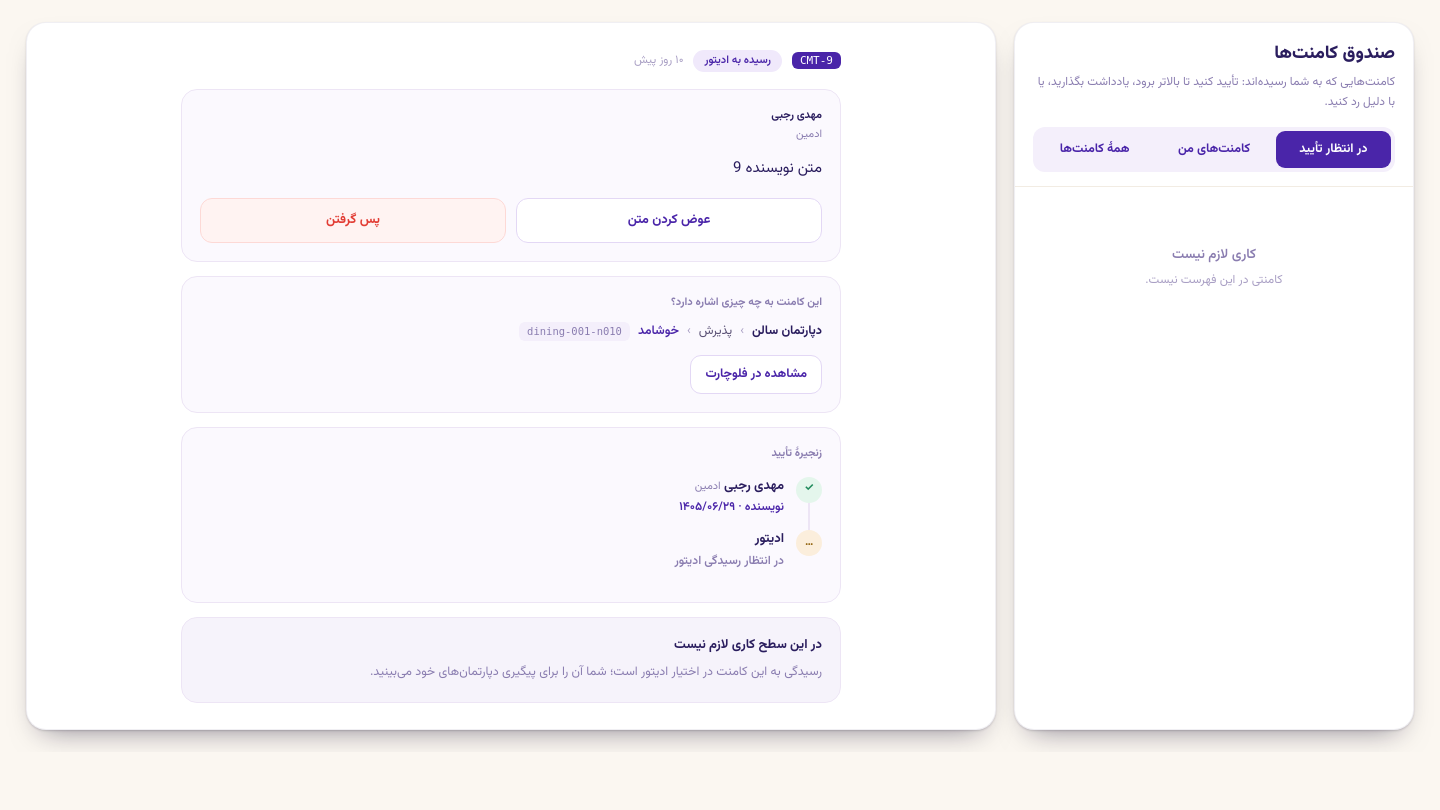
it: panel inbox › gives an Admin author «عوض کردن متن»: the text becomes a box, «دوباره بفرست» PUTs it
Click the button "عوض کردن متن" at (669, 220), box top-left (516, 198), bottom-right (822, 243)
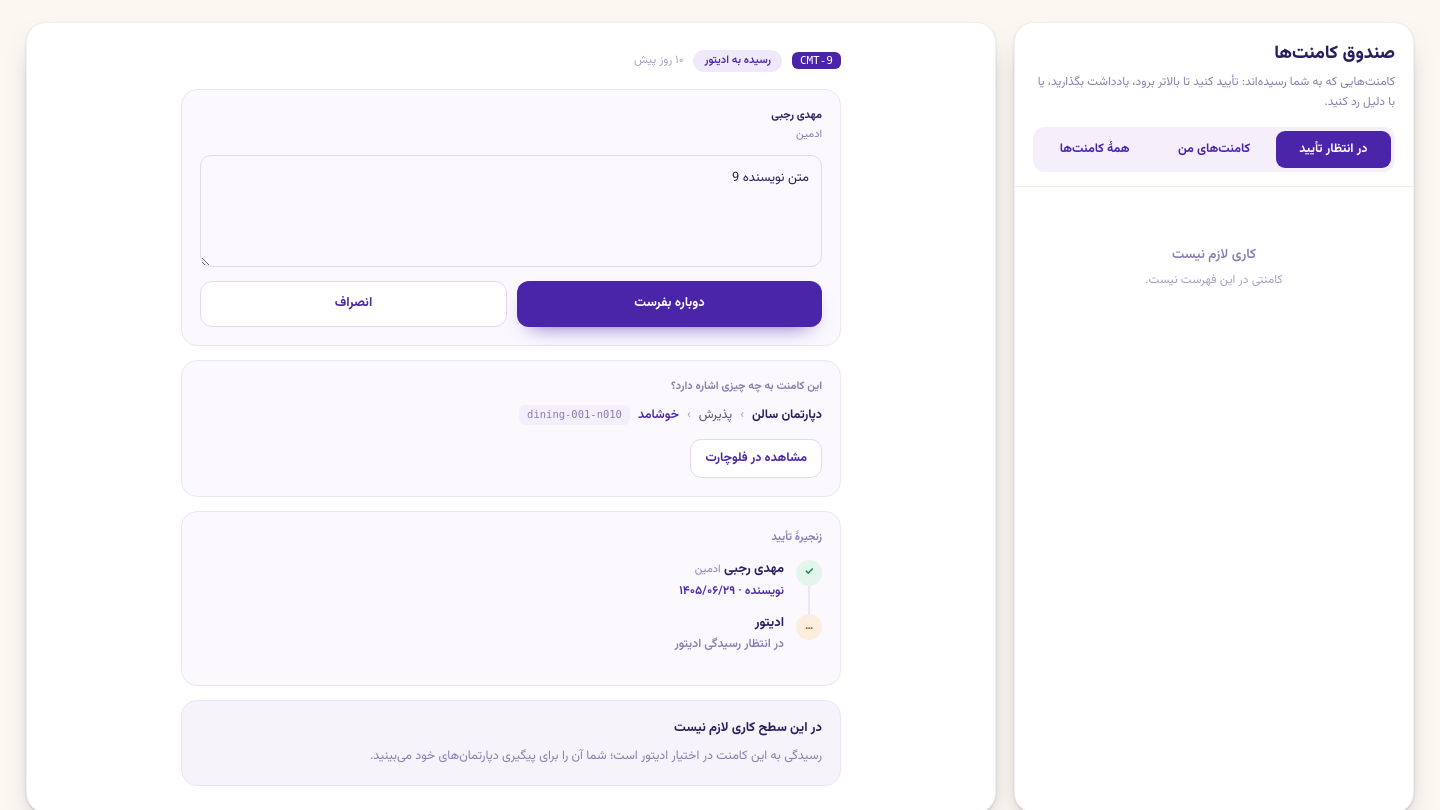
Now the text box with placeholder "حرفتان را ساده بنویسید…" holds "متن نویسنده 9"
Replace the text in the text box with placeholder "حرفتان را ساده بنویسید…" with "متن تازه" at (511, 211), box top-left (200, 155), bottom-right (822, 267)
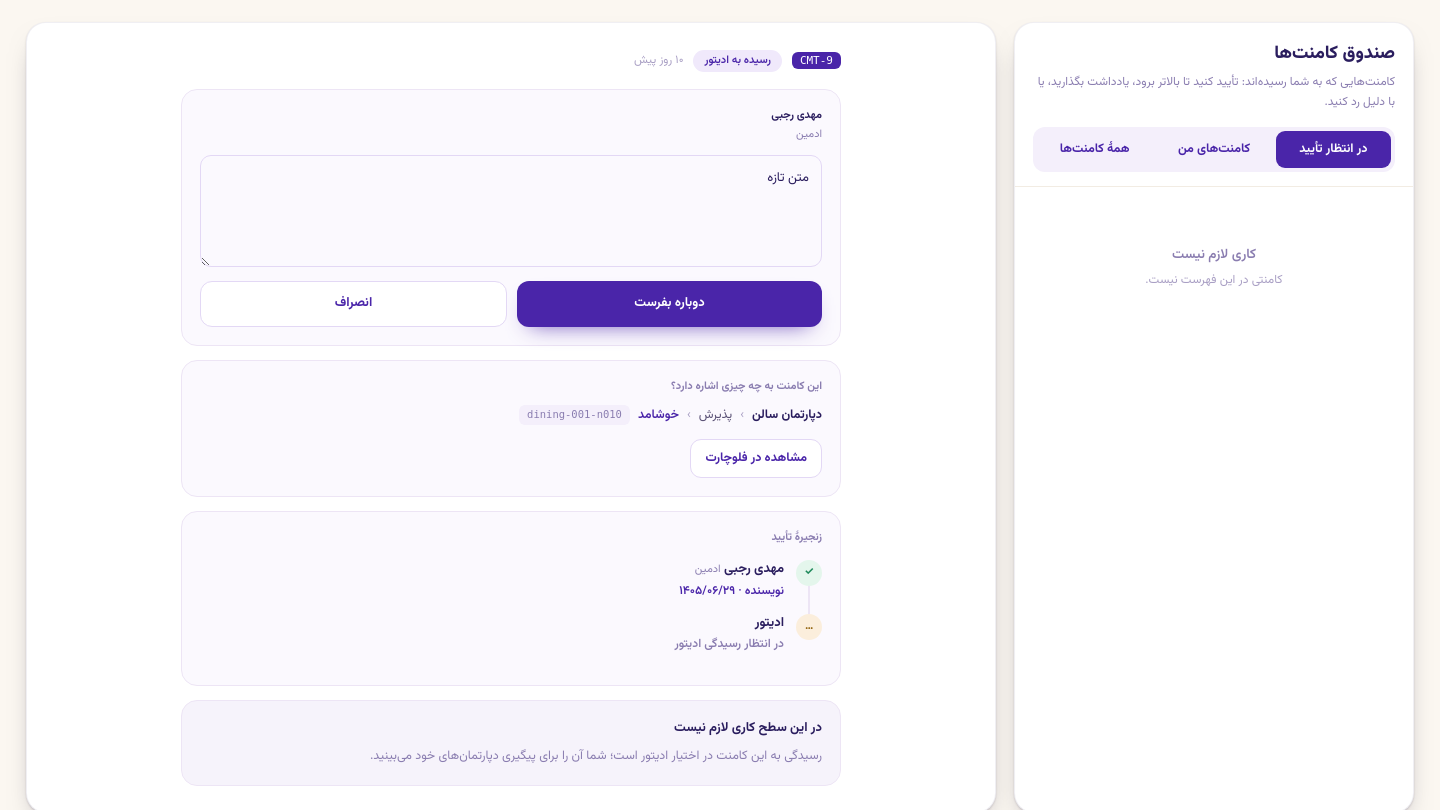
Click the button "دوباره بفرست" at (670, 304), box top-left (517, 281), bottom-right (822, 327)
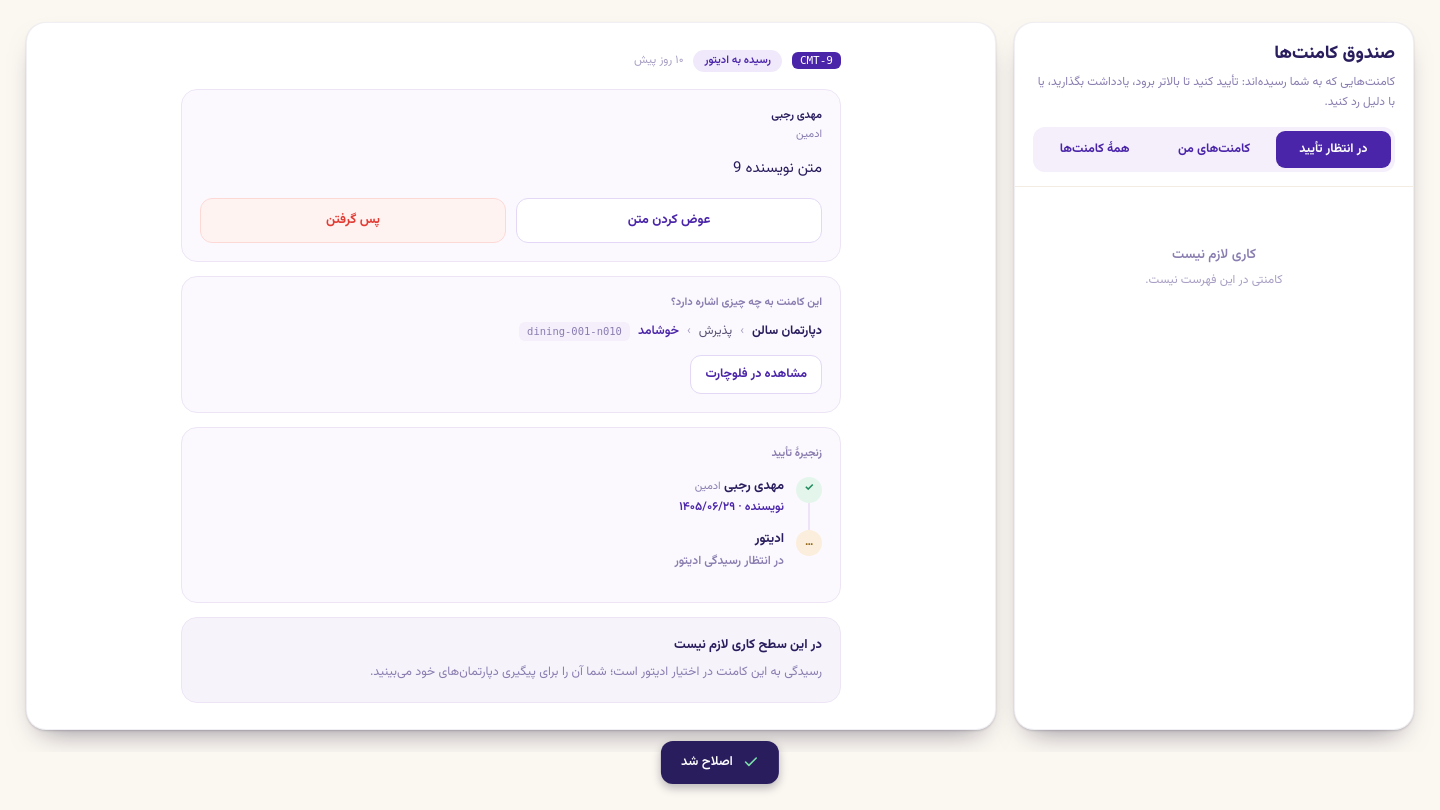
Now the text "اصلاح شد" is shown, box top-left (661, 740), bottom-right (779, 784)
